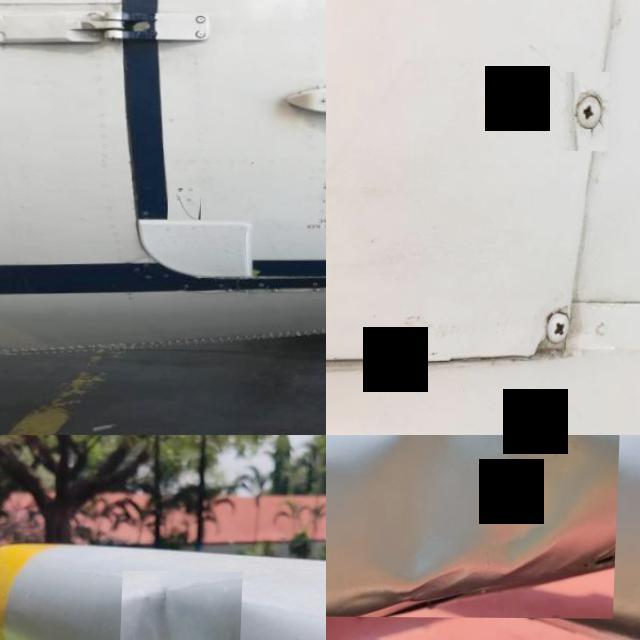Crack: (522, 289, 586, 389), (565, 72, 611, 150), (357, 336, 413, 374), (170, 188, 204, 220)
Dent: (326, 435, 623, 618), (120, 571, 244, 640)
